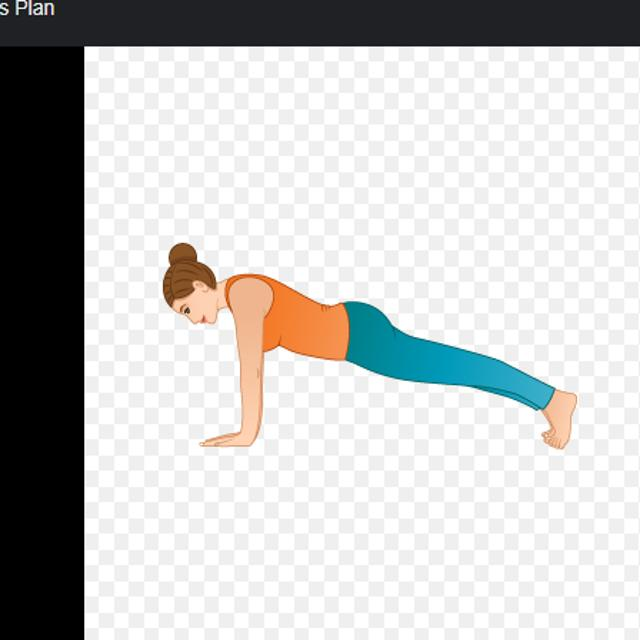Plank_Pose: (151, 237, 588, 467)
